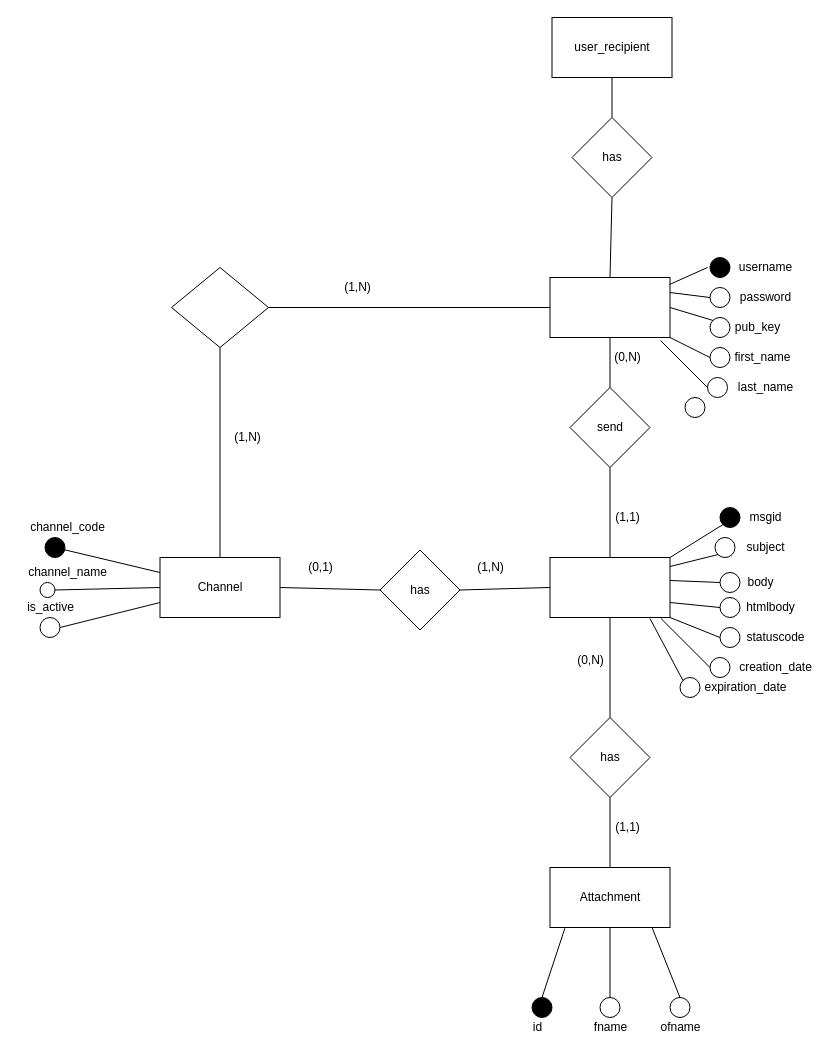
This 837x1055 diagram has some shape labels left out. Here are the shapes that lost their labels. From the top down, the box of each, then its label:
(170, 266, 268, 348): can send messages on
(549, 276, 670, 338): appuser
(549, 556, 670, 618): newsmail
